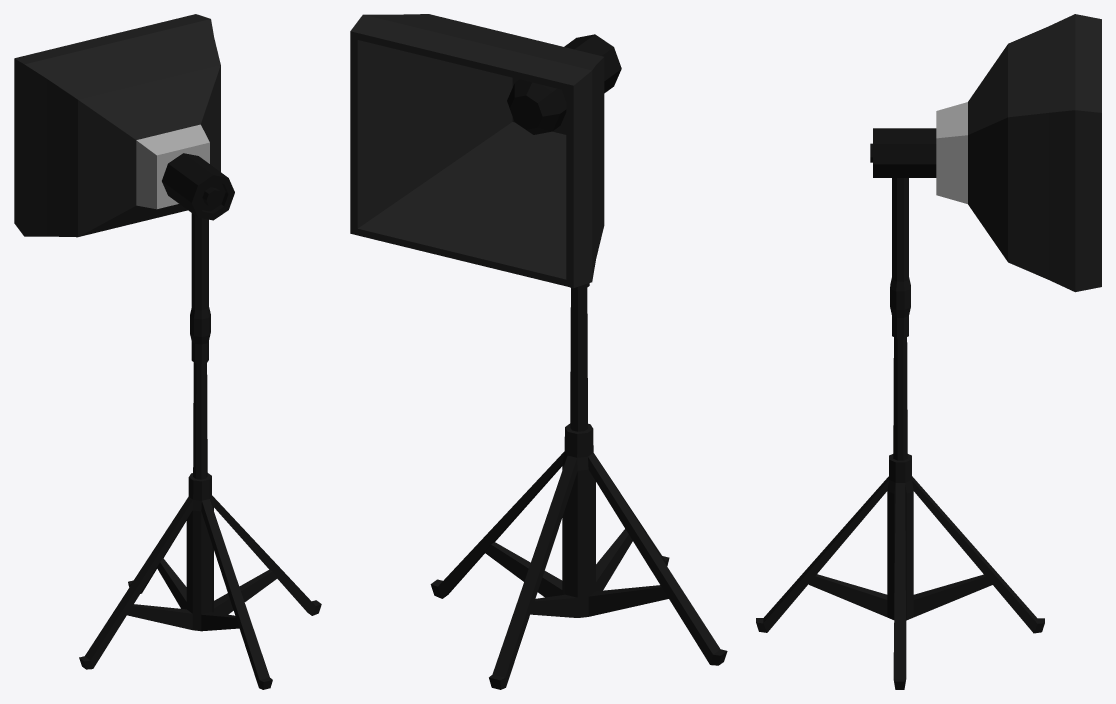
The model's file is StudioLightV1.fbx.
3 renders of one model, left to right at view 1: azimuth 30°, elevation 25°; view 2: azimuth 150°, elevation 25°; view 3: azimuth 270°, elevation 25°, orthographic. The views are drawn at different scales.
Parts seen in each view (by area): view 1: StudioLightV1; view 2: StudioLightV1; view 3: StudioLightV1.
Boxes of the visible parts, x1=… form: StudioLightV1: x1=14, y1=14, x2=321, y2=689; StudioLightV1: x1=350, y1=14, x2=727, y2=689; StudioLightV1: x1=756, y1=14, x2=1101, y2=689.
Size of the model in its own units: 69.38 by 151 by 83.05.
